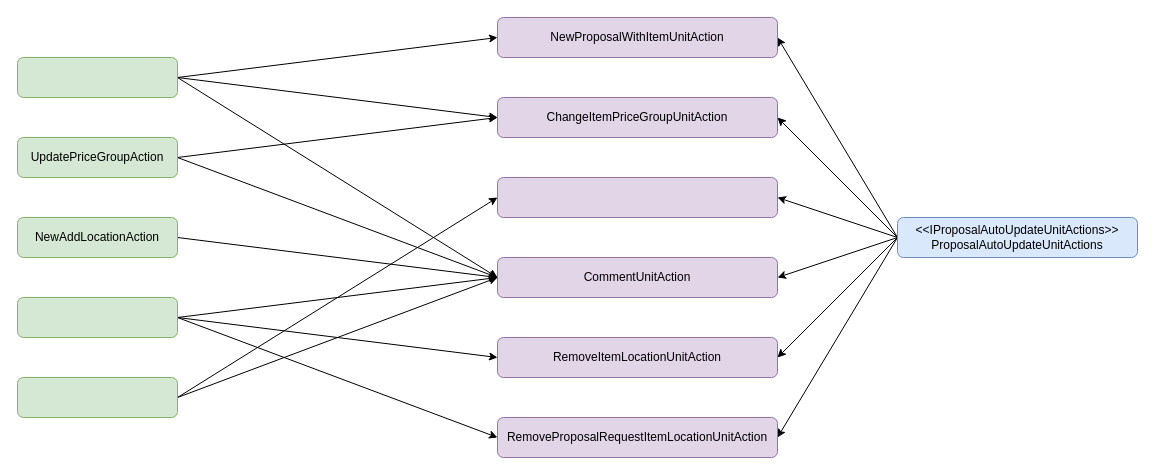
Some shapes in this 1155 by 475 pixel diagram are drawn without their labels. The box of each missing label's shape, as (x1, y1, x2, y2) in pixels:
InactiveItemLocationAction: (16, 296, 178, 338)
NewAddPriceGroupAction: (16, 56, 178, 98)
PackQuantityUpdateUnitAction: (496, 176, 778, 218)
UpdatePackQuantityAction: (16, 376, 178, 418)
